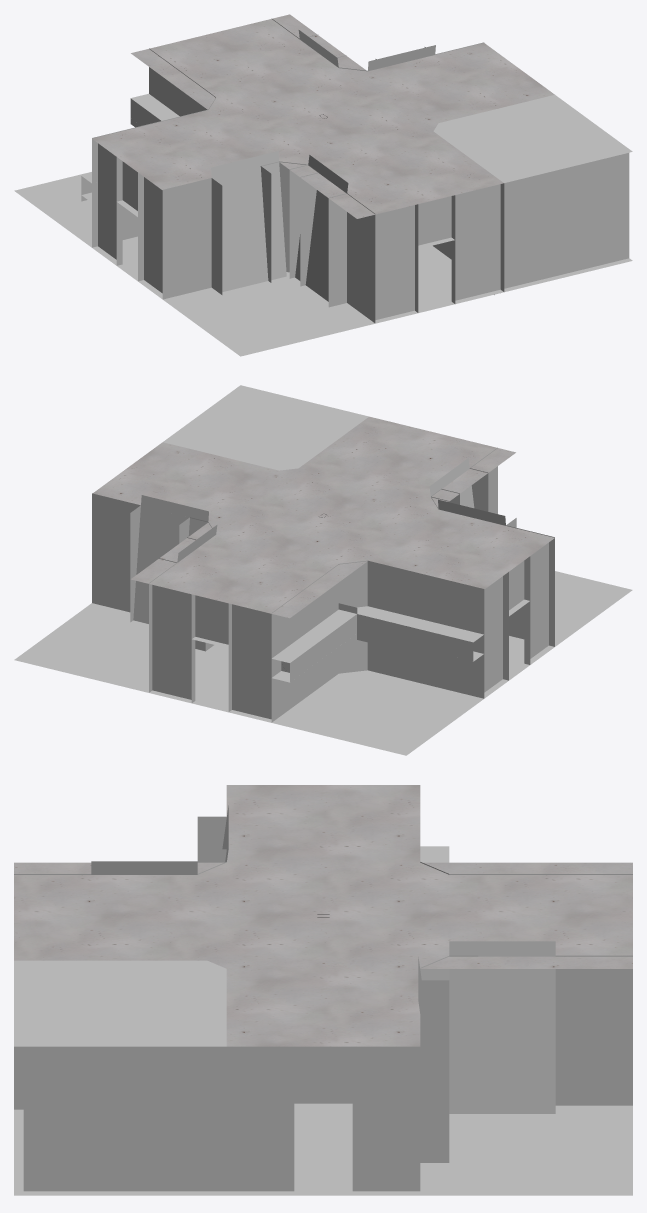
The model's file is Room4Info_OPT.fbx.
3 renders of one model, top to bottom at view 1: azimuth 30°, elevation 25°; view 2: azimuth 150°, elevation 25°; view 3: azimuth 270°, elevation 25°, orthographic. The views are drawn at different scales.
Parts seen in each view (by area): view 1: Room4Info_OPT; view 2: Room4Info_OPT; view 3: Room4Info_OPT.
Part boxes in pixels (x1,y1,x2,y2): Room4Info_OPT: (14,14,632,356); Room4Info_OPT: (14,385,632,755); Room4Info_OPT: (14,785,632,1195).
Size of the model in its own units: 20.48 by 6.16 by 20.48.
